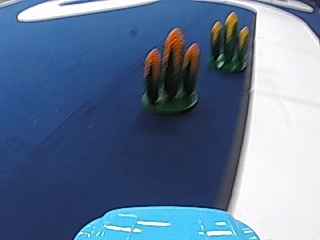corn: (138, 29, 201, 117), (207, 11, 250, 73)
